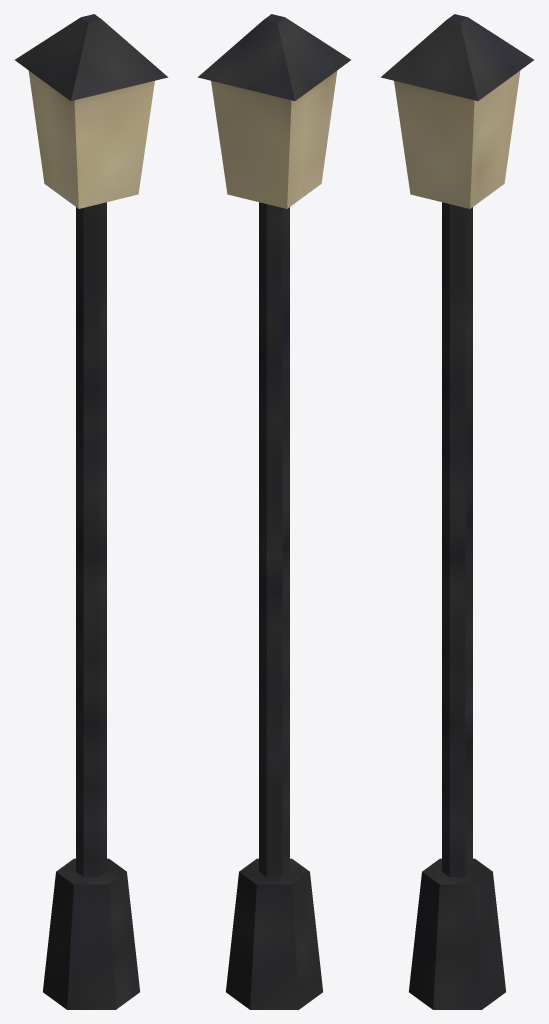
File: SM_Lamppost.fbx
The picture shows the model from 3 angles, left to right: view 1: azimuth 30°, elevation 25°; view 2: azimuth 150°, elevation 25°; view 3: azimuth 330°, elevation 25°; orthographic projection.
Parts seen in each view (by area): view 1: SM_Lamppost; view 2: SM_Lamppost; view 3: SM_Lamppost.
Boxes of the visible parts, x1,y1,x2,y2 form: SM_Lamppost: (15, 14, 168, 1009); SM_Lamppost: (197, 14, 350, 1009); SM_Lamppost: (380, 14, 533, 1009).
Size of the model in its own units: 50.91 by 485 by 50.91.
2 materials, 2 textured.
